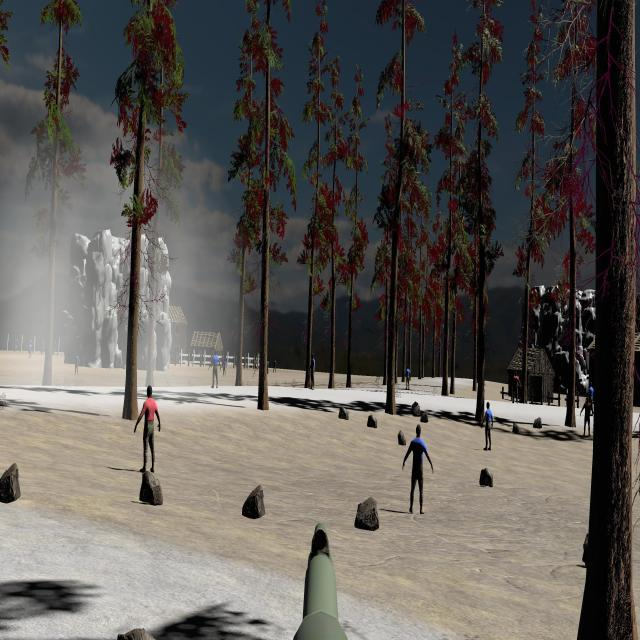Human: (402, 425, 434, 515), (134, 385, 161, 474), (482, 401, 494, 450)
